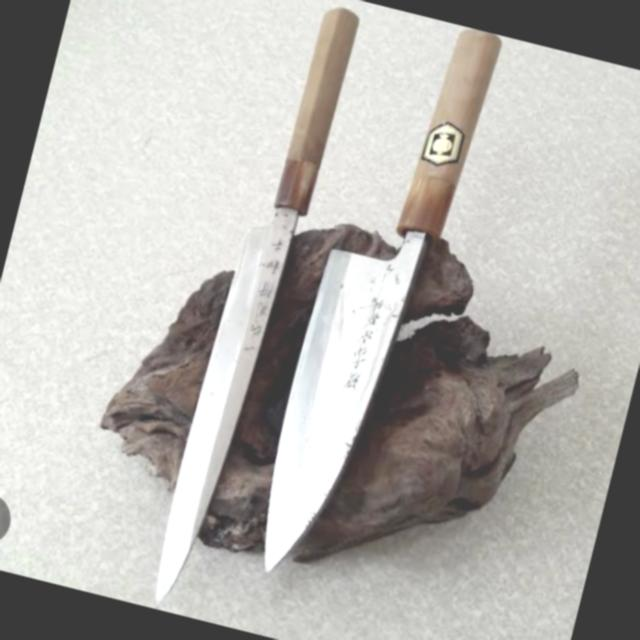knife: (134, 0, 530, 640)
